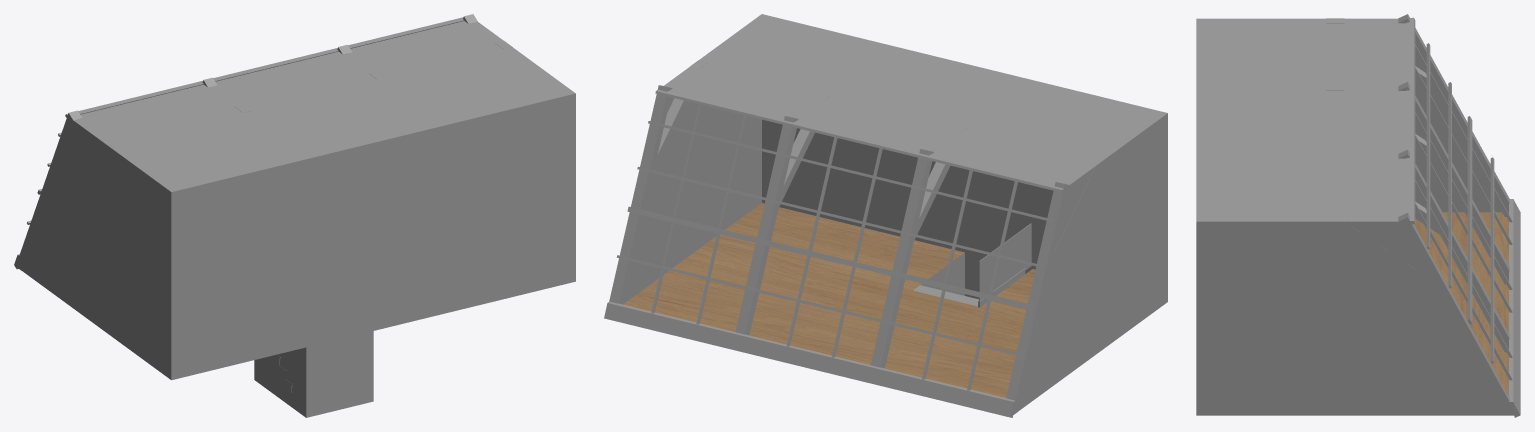
File: kartell-room.obj
3 views of the same model, side by side, from view 1: azimuth 30°, elevation 25°; view 2: azimuth 150°, elevation 25°; view 3: azimuth 270°, elevation 25° (orthographic). The views are drawn at different scales.
Visible parts, largest first — view 1: structrue_Plane.001, beam_Cube, Small_beam_Cube.014; view 2: structrue_Plane.001, floor_Plane.002, beam_Cube, Small_beam_Cube.014, glass_Plane.063; view 3: structrue_Plane.001, beam_Cube, Small_beam_Cube.014, floor_Plane.002.
Boxes of the visible parts, box(x1,y1,x2,y2) form: structrue_Plane.001: box(21, 21, 575, 417); beam_Cube: box(14, 14, 512, 270); Small_beam_Cube.014: box(27, 17, 464, 224); structrue_Plane.001: box(623, 14, 1167, 411); floor_Plane.002: box(623, 203, 1035, 397); beam_Cube: box(604, 60, 1104, 417); Small_beam_Cube.014: box(616, 89, 1063, 390); glass_Plane.063: box(979, 223, 1031, 303); structrue_Plane.001: box(1196, 18, 1515, 415); beam_Cube: box(1326, 14, 1520, 417); Small_beam_Cube.014: box(1406, 17, 1512, 380); floor_Plane.002: box(1414, 212, 1508, 395).
Bounding box in the file's own units: 9 × 5.59 × 6.06.
